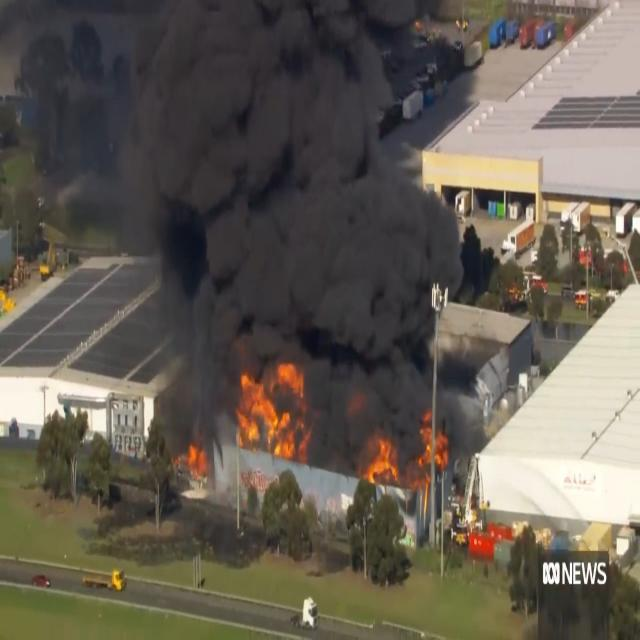fire: (236, 361, 308, 459), (371, 443, 408, 493), (182, 442, 210, 498), (418, 413, 446, 463)
